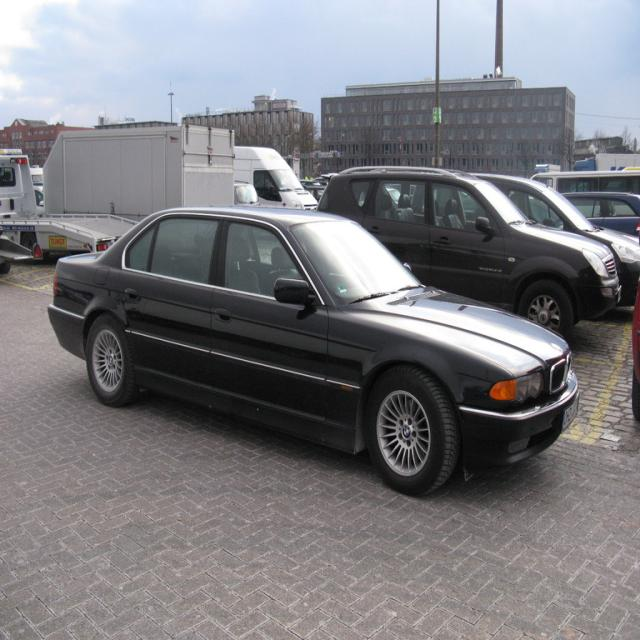car: (48, 190, 577, 493)
